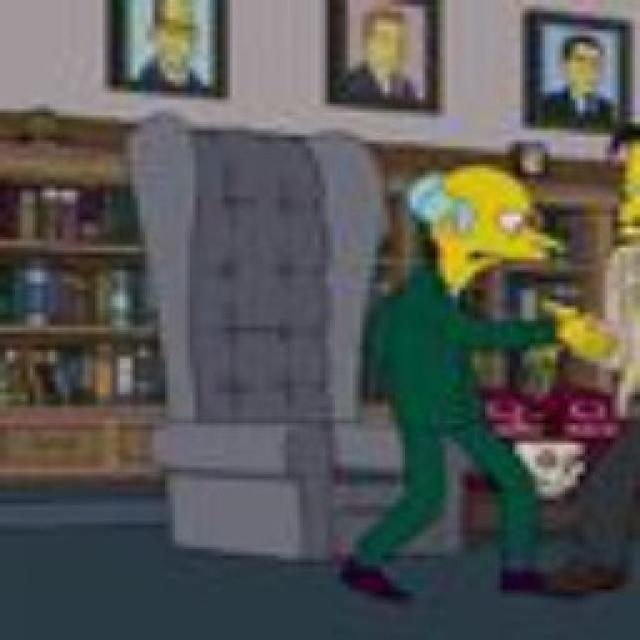Charles Montgomery Burns: (401, 155, 579, 301)
